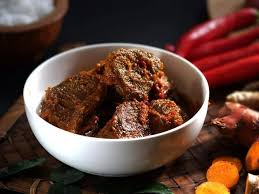rendang: (28, 25, 217, 157)
